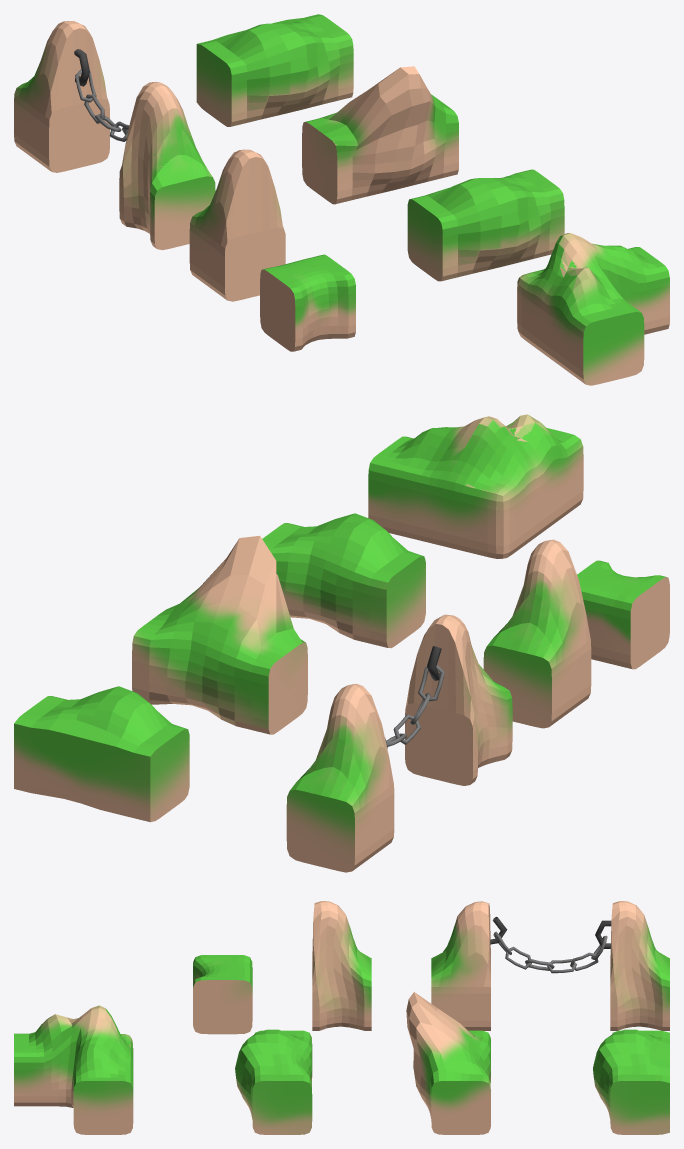
The model's file is cevre.test.fbx.
3 views of the same model, one above another, from view 1: azimuth 30°, elevation 25°; view 2: azimuth 150°, elevation 25°; view 3: azimuth 270°, elevation 25° (orthographic). The views are drawn at different scales.
Visible parts, largest first — view 1: corner, 2.1.2, 2.1.1, 2.1.1 variant, 1.1.3.Chain2, 1.1.3, 1.1.3 Chain, 1.1.1, Torus.004; view 2: corner, 2.1.2, 2.1.1, 2.1.1 variant, 1.1.3 Chain, 1.1.3, 1.1.3.Chain2, 1.1.1, Torus.004; view 3: corner, 2.1.2, 2.1.1 variant, 2.1.1, 1.1.3, 1.1.3 Chain, 1.1.3.Chain2, 1.1.1, Torus.004.
Part boxes in pixels (x1,y1,x2,y2): corner: (517, 233, 669, 385); 2.1.2: (302, 66, 458, 204); 2.1.1: (196, 14, 353, 126); 2.1.1 variant: (407, 169, 564, 281); 1.1.3.Chain2: (119, 81, 215, 250); 1.1.3: (189, 149, 285, 301); 1.1.3 Chain: (14, 21, 109, 172); 1.1.1: (260, 254, 355, 351); Torus.004: (75, 69, 129, 141); corner: (368, 414, 583, 558); 2.1.2: (132, 535, 307, 734); 2.1.1: (14, 686, 189, 822); 2.1.1 variant: (262, 513, 425, 648); 1.1.3 Chain: (286, 683, 394, 872); 1.1.3: (483, 539, 591, 728); 1.1.3.Chain2: (405, 614, 512, 785); 1.1.1: (577, 560, 669, 669); Torus.004: (385, 664, 444, 748); corner: (14, 1005, 133, 1134); 2.1.2: (406, 992, 490, 1134); 2.1.1 variant: (235, 1029, 312, 1134); 2.1.1: (593, 1029, 669, 1134); 1.1.3: (312, 901, 371, 1030); 1.1.3 Chain: (610, 901, 669, 1030); 1.1.3.Chain2: (431, 901, 490, 1030); 1.1.1: (193, 955, 252, 1034); Torus.004: (493, 931, 607, 973).
Size of the model in its own units: 5 by 2.2 by 11.
Materials: 1 (1 with a texture image).
